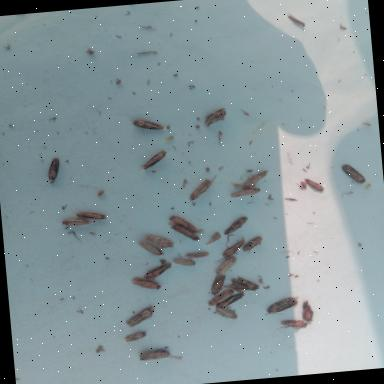pbw: (187, 174, 219, 207), (167, 212, 206, 237), (223, 274, 262, 296), (264, 295, 302, 316), (124, 304, 156, 328), (134, 150, 168, 172), (214, 290, 247, 310), (170, 222, 200, 244), (220, 236, 249, 258), (136, 238, 166, 259), (131, 274, 164, 293), (272, 316, 310, 332), (240, 170, 270, 190), (341, 162, 366, 186), (220, 216, 249, 236), (142, 262, 174, 280), (144, 234, 175, 252), (138, 348, 172, 364), (230, 186, 262, 203), (207, 289, 236, 307), (55, 216, 97, 228), (204, 106, 228, 127), (73, 209, 108, 223), (132, 117, 164, 132), (214, 256, 238, 276), (240, 236, 265, 254), (208, 274, 228, 296), (213, 306, 238, 322), (300, 300, 316, 324), (286, 11, 306, 30), (170, 255, 196, 269), (47, 158, 62, 182), (304, 178, 325, 194), (122, 332, 150, 342), (184, 250, 210, 260), (301, 181, 308, 191)
